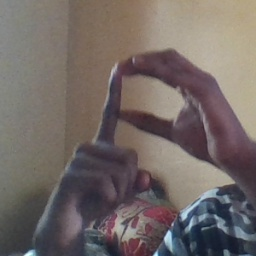P: (62, 39, 235, 214)
